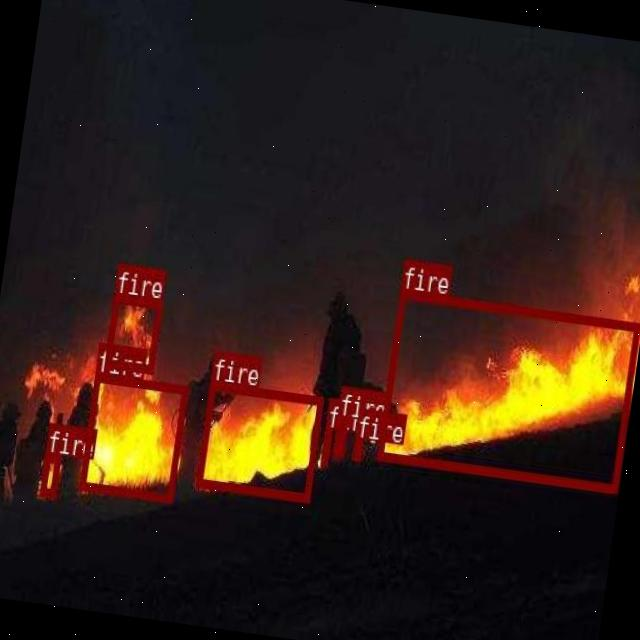fire: (378, 289, 640, 492), (195, 380, 324, 500), (78, 372, 188, 502), (104, 293, 162, 372), (39, 452, 61, 496), (332, 416, 347, 456), (319, 428, 331, 464), (352, 437, 362, 460)
